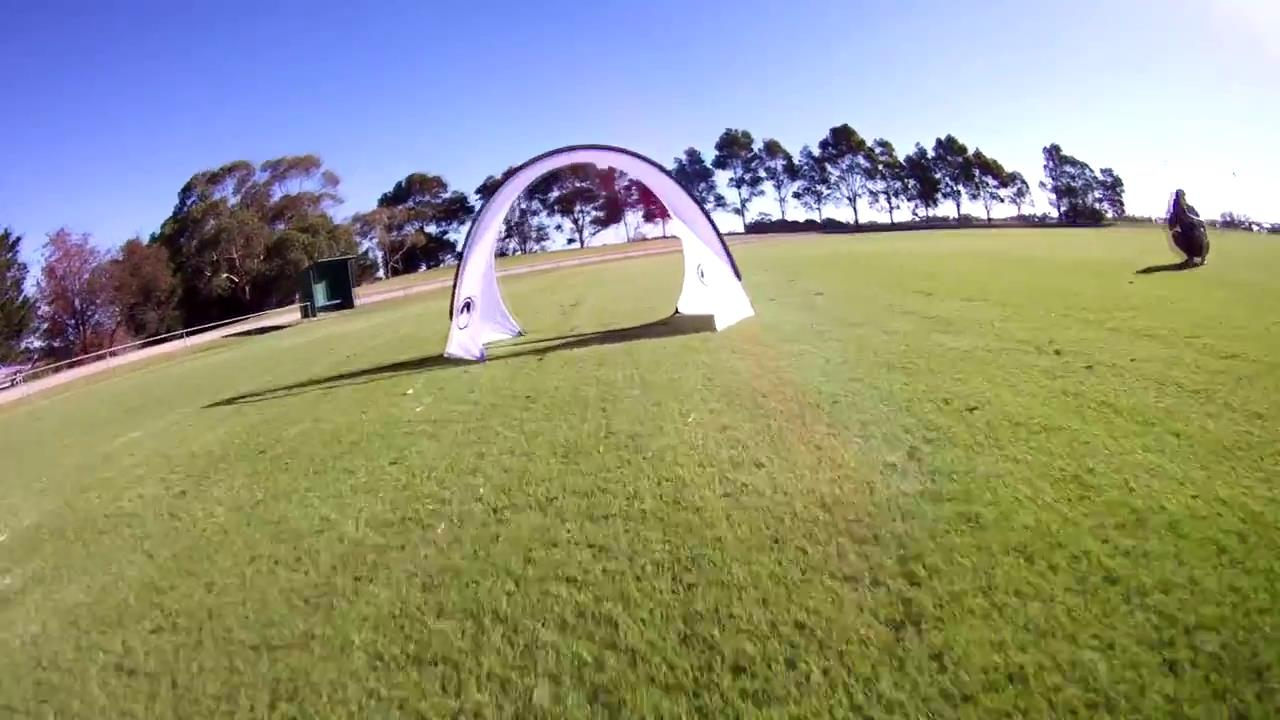gate: (442, 139, 763, 364)
